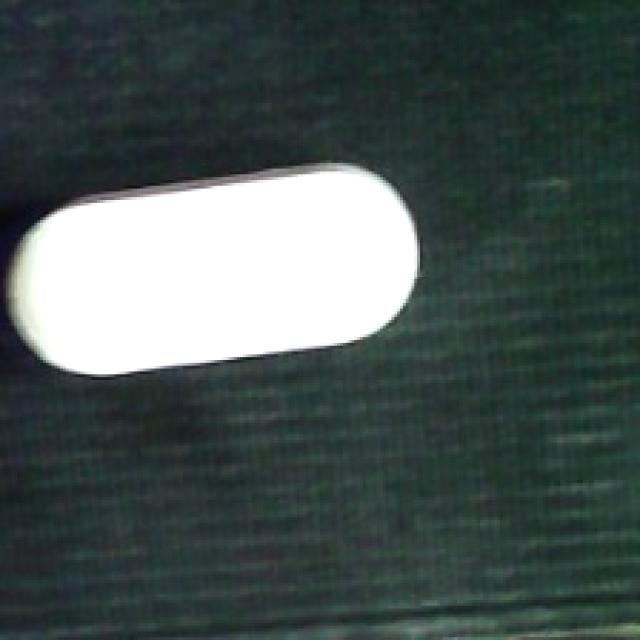no-defect: (6, 157, 426, 379)
